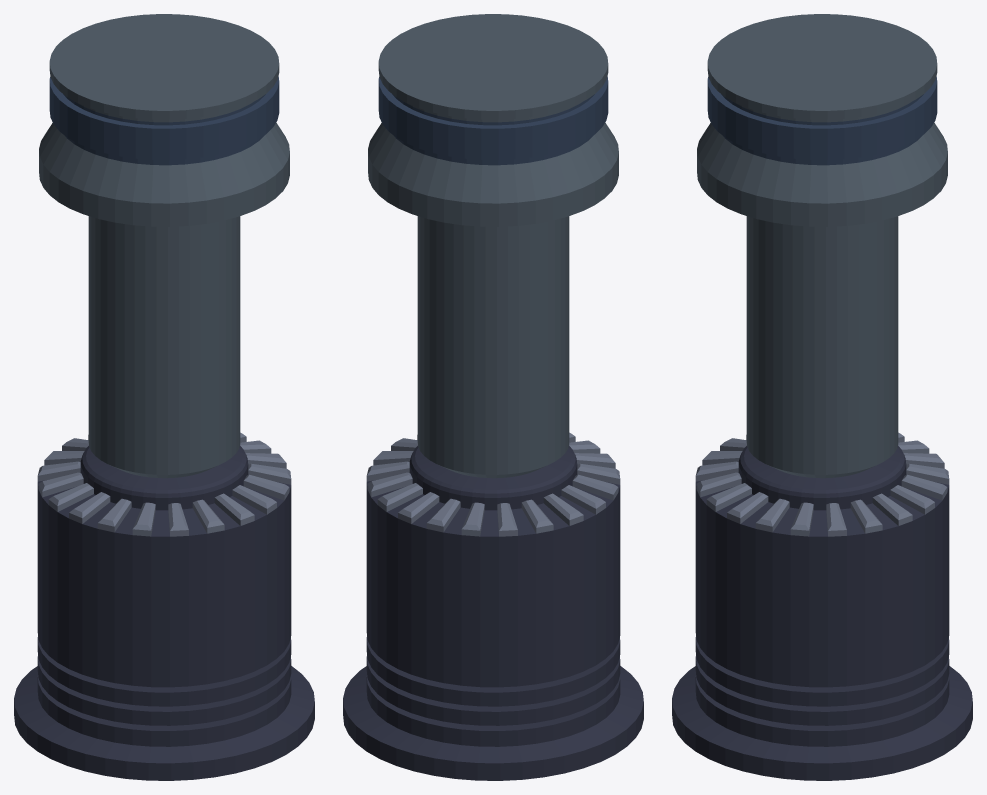
The model's file is 大门主体层_006.fbx.
3 renders of one model, left to right at view 1: azimuth 30°, elevation 25°; view 2: azimuth 150°, elevation 25°; view 3: azimuth 270°, elevation 25°, orthographic.
Visible parts, largest first — view 1: 大门主体层.006; view 2: 大门主体层.006; view 3: 大门主体层.006.
Part boxes in pixels (bbox=[...]): 大门主体层.006: bbox=[14, 14, 314, 780]; 大门主体层.006: bbox=[343, 14, 643, 780]; 大门主体层.006: bbox=[672, 14, 972, 780].
Bounding box in the file's own units: 1.59 × 3.83 × 1.59.
